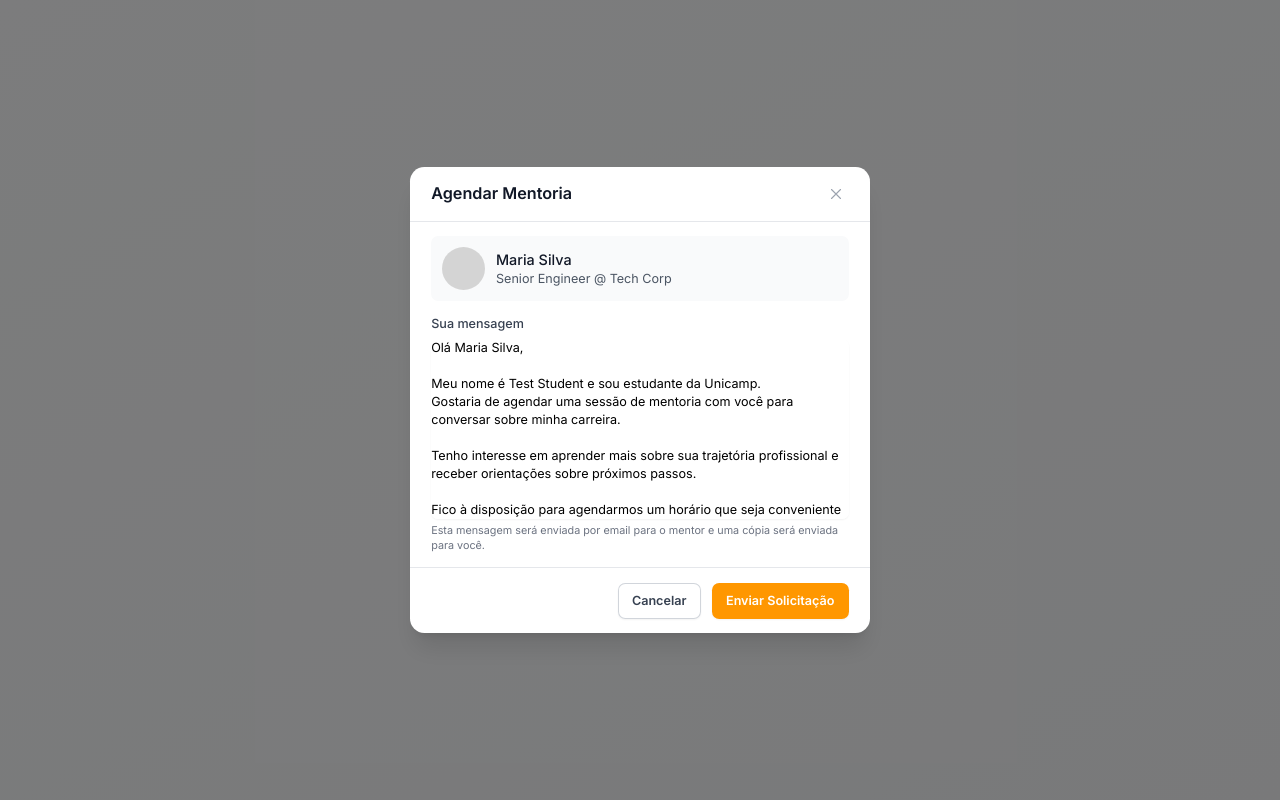
BookingModal › error handling › handles standard API errors
What coordinates should you click on to do the following:
click the button "Enviar Solicitação"
I would click on:
 (780, 601)
Its box is [712, 583, 849, 619].
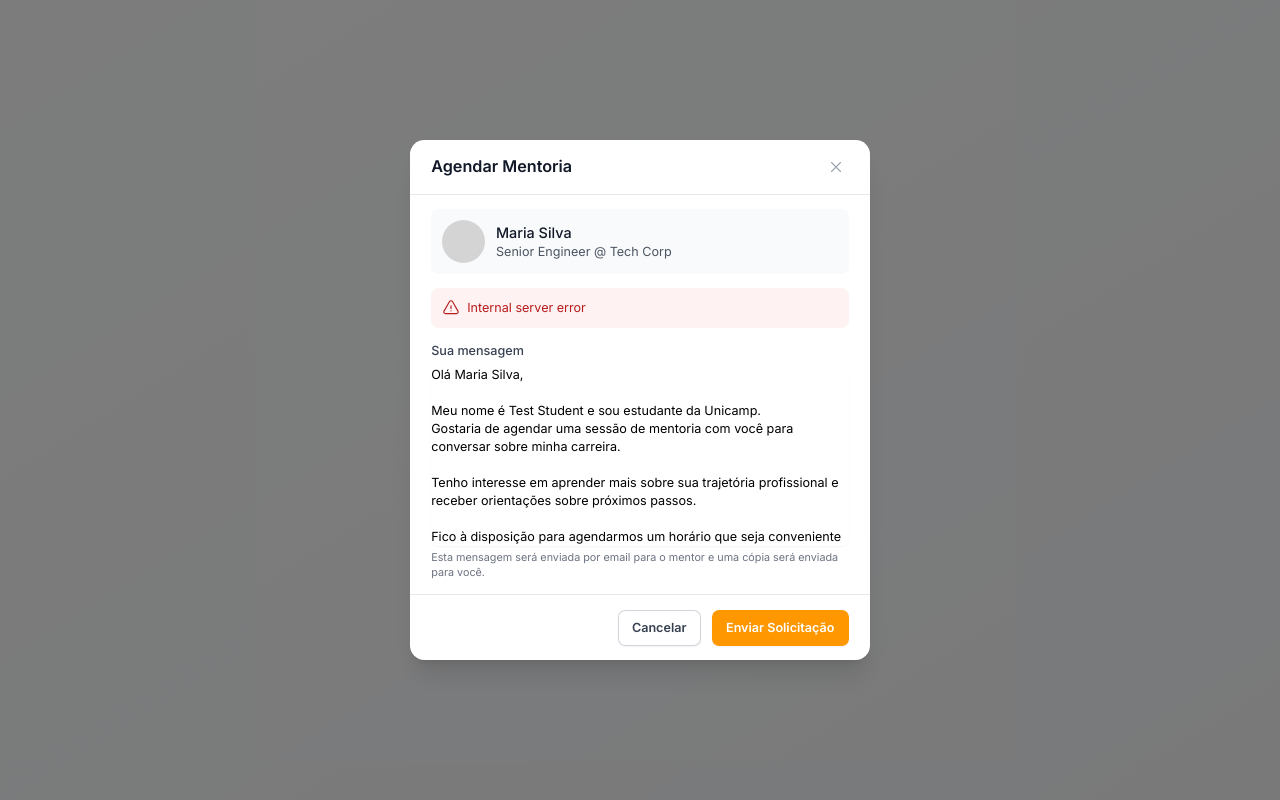
Result: the text "Internal server error" is shown at [467, 299, 586, 317]
